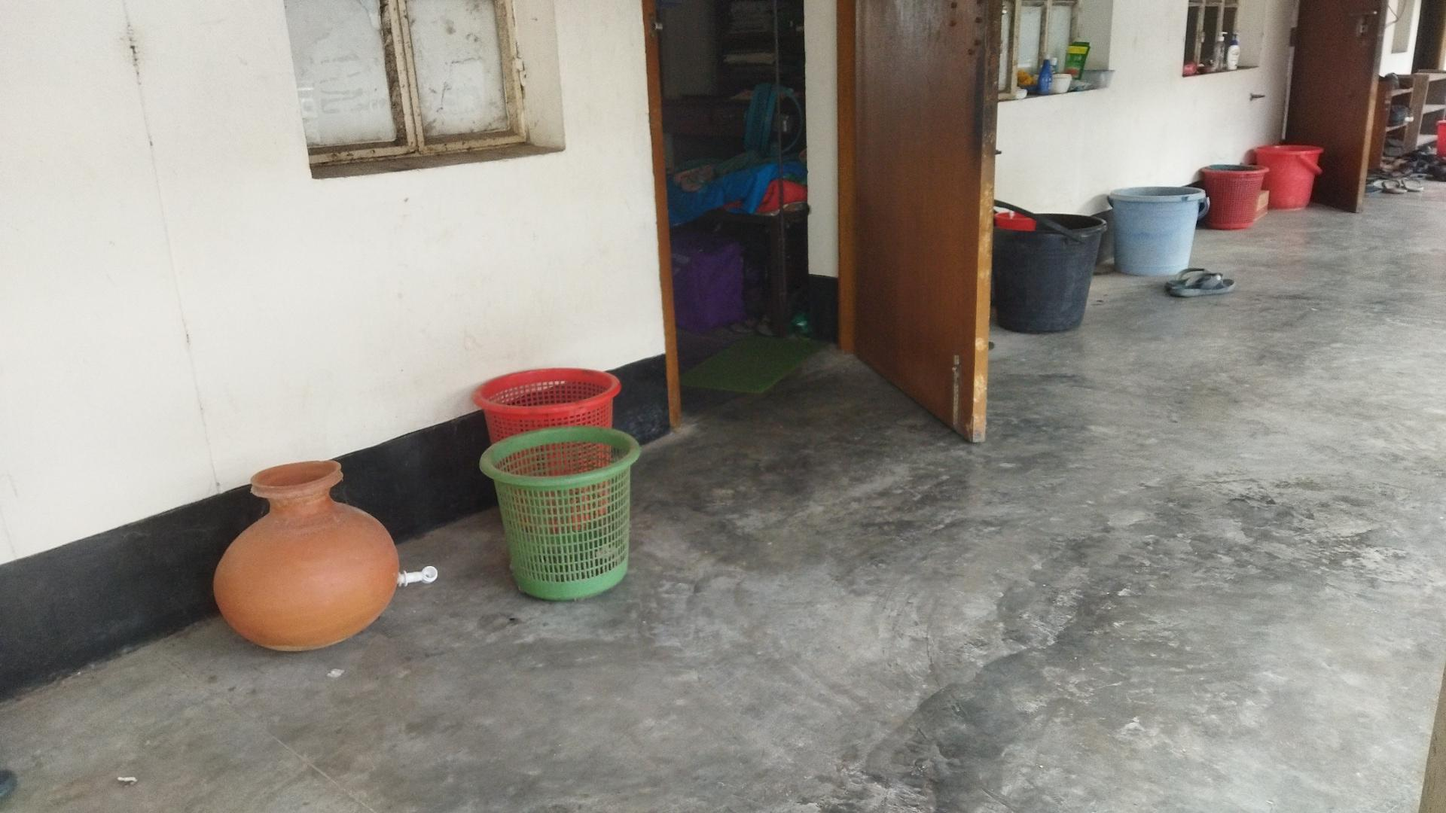Basket: (476, 421, 639, 603), (465, 366, 619, 511), (1199, 157, 1266, 233)
Bucket: (997, 204, 1106, 336), (1111, 165, 1201, 279), (1257, 130, 1321, 219)
Door: (848, 0, 1003, 451)
Floor Mat: (674, 339, 836, 400)
Footwear: (1163, 262, 1244, 304)
